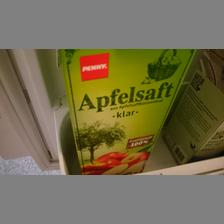Saft: (55, 50, 194, 174)
